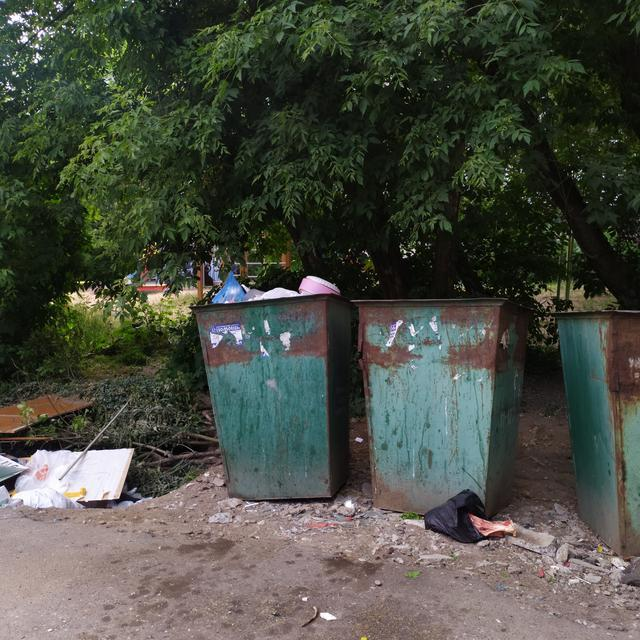Trash_Can_Empty: (354, 299, 526, 513), (560, 311, 639, 555)
Trash_Can_Full: (193, 269, 355, 500)
